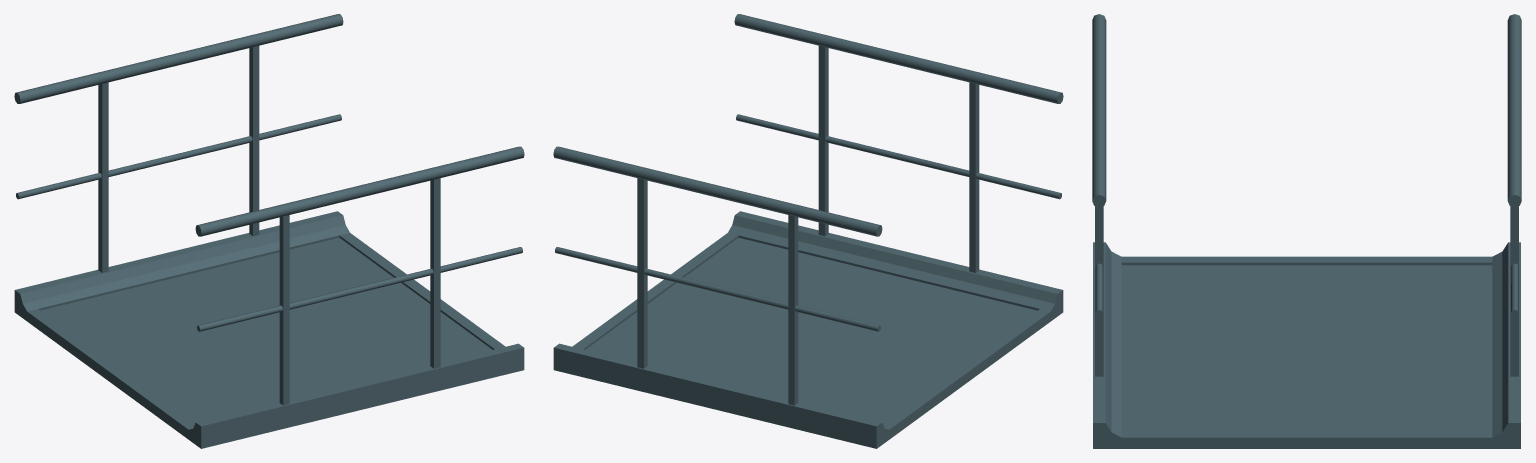
Rendered from SM_BLD_METALCATWALK_04.fbx.
The picture shows the model from 3 angles, left to right: view 1: azimuth 30°, elevation 25°; view 2: azimuth 150°, elevation 25°; view 3: azimuth 270°, elevation 25°; orthographic projection. The views are drawn at different scales.
Visible parts, largest first — view 1: SM_BLD_METALCATWALK_04; view 2: SM_BLD_METALCATWALK_04; view 3: SM_BLD_METALCATWALK_04.
Part boxes in pixels (x1=…): SM_BLD_METALCATWALK_04: x1=14, y1=14, x2=524, y2=448; SM_BLD_METALCATWALK_04: x1=553, y1=14, x2=1063, y2=448; SM_BLD_METALCATWALK_04: x1=1092, y1=14, x2=1521, y2=448.
Size of the model in its own units: 1.5 by 0.9833 by 1.51.
